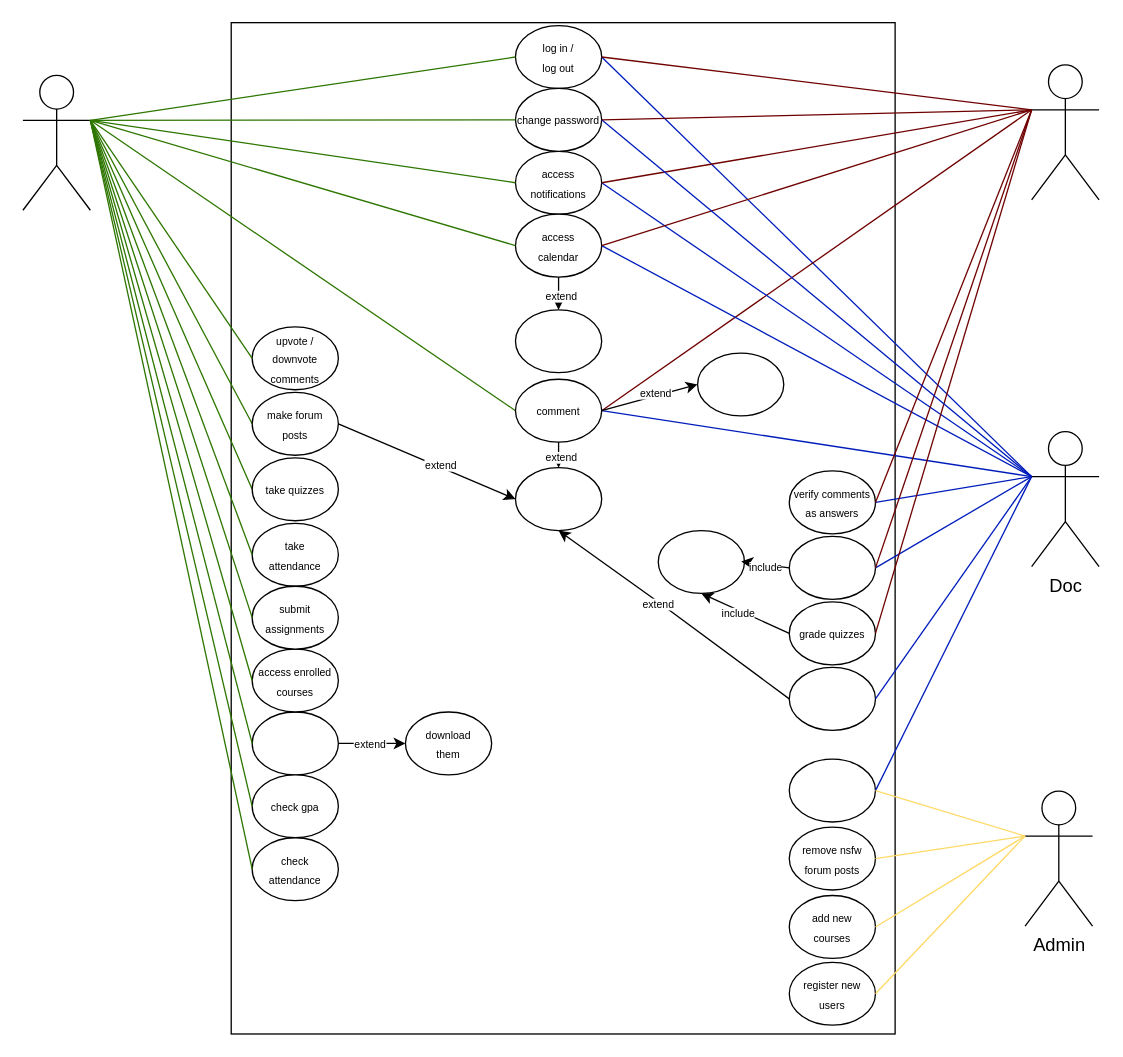
This 1123x1057 diagram has some shape labels left out. Here are the shapes that lost their labels. From the top down, the box of each, then its label:
(22, 74, 90, 210): Student
(1030, 64, 1099, 200): TA
(514, 309, 602, 373): make personal edits
(696, 352, 784, 416): reply to another comment
(514, 466, 602, 531): attach a file
(657, 529, 744, 593): edit student grades
(788, 535, 875, 599): grade assignments
(788, 666, 875, 730): make announcements
(251, 711, 338, 775): access course material
(788, 758, 875, 822): change course material
